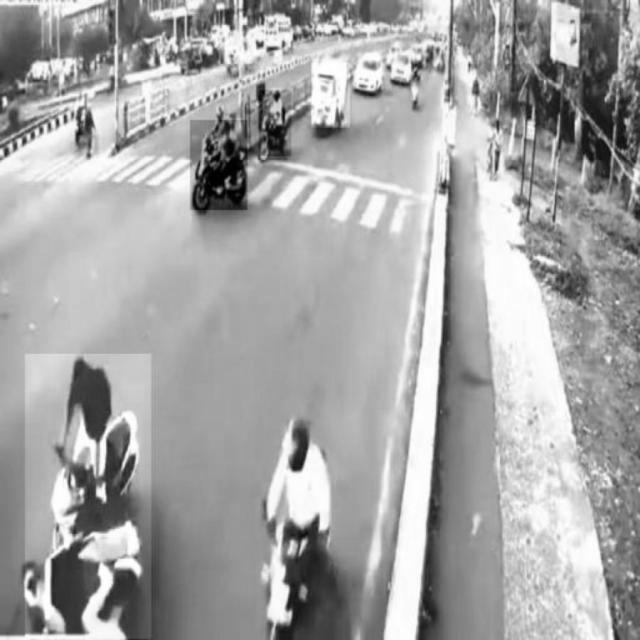accident: (25, 355, 151, 639)
vehicle: (259, 413, 345, 640), (191, 120, 248, 210), (311, 63, 349, 127), (259, 90, 291, 156), (356, 53, 382, 90)
